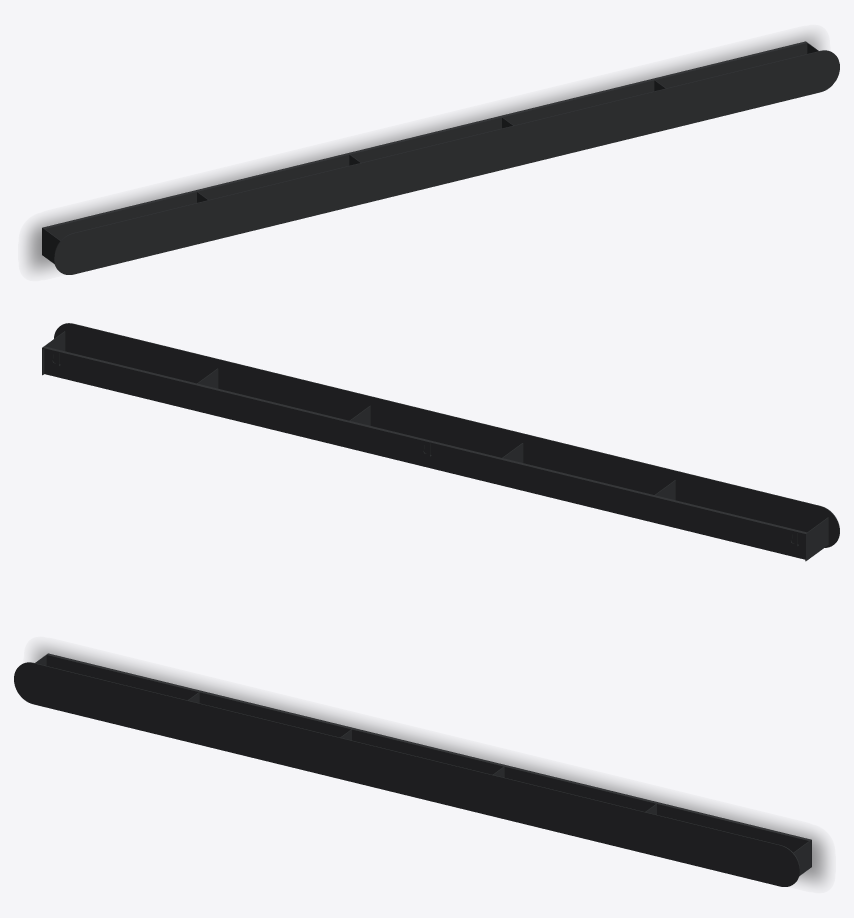
File: round-mono.379dae4b49.ar.glb
3 views of the same model, one above another, from view 1: azimuth 30°, elevation 25°; view 2: azimuth 150°, elevation 25°; view 3: azimuth 330°, elevation 25° (orthographic).
Parts seen in each view (by area): view 1: NAUO1, object 2; view 2: NAUO1; view 3: NAUO1, object 2.
Boxes of the visible parts, <box> form: NAUO1: <box>42,41,839,274</box>; object 2: <box>26,34,821,271</box>; NAUO1: <box>42,323,839,561</box>; NAUO1: <box>14,653,811,886</box>; object 2: <box>32,646,827,883</box>.
Size of the model in its own units: 1.88 by 0.17 by 0.092.
2 materials, 1 textured.
